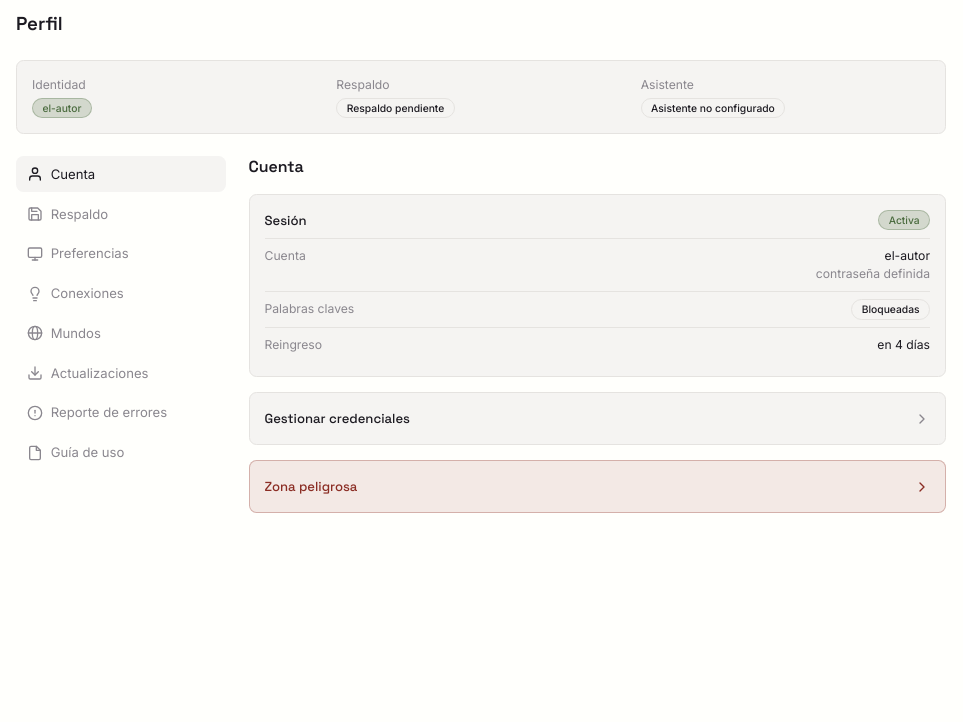
Scenario: ProfilePage account section (credentials mode) › shows one credentials form at a time through the segmented control
Click the button "Gestionar credenciales" at (337, 419), box [250,393,945,444]
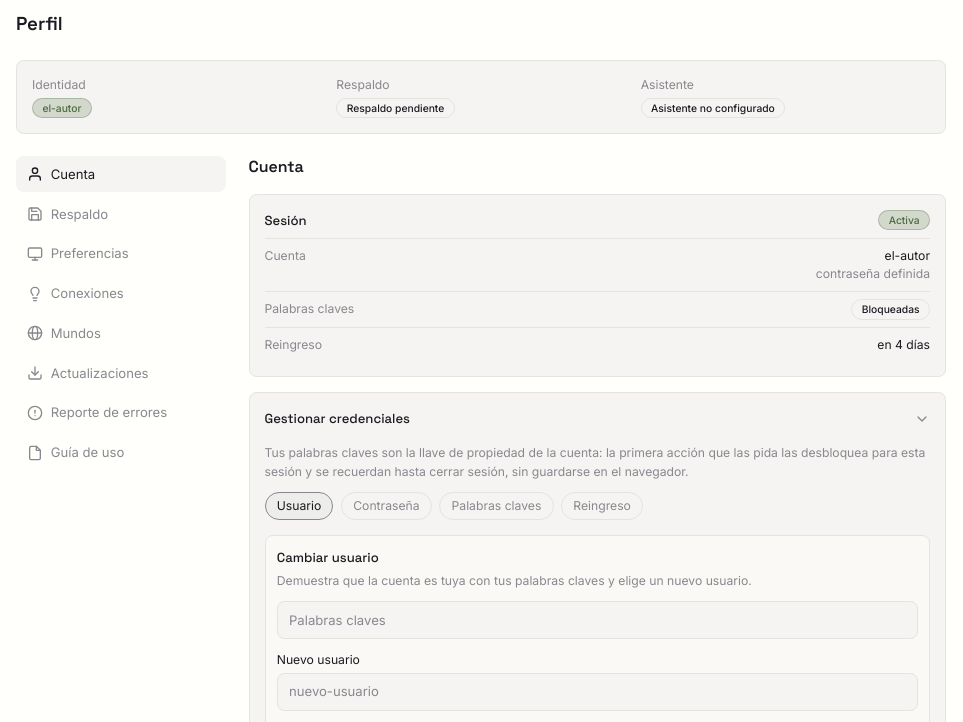
Expected: the heading "Cambiar contraseña" is not shown
Result: the heading "Cambiar usuario" is shown at [277,549,379,566]
Click the button "Contraseña" at (386, 506), box [341,492,432,520]
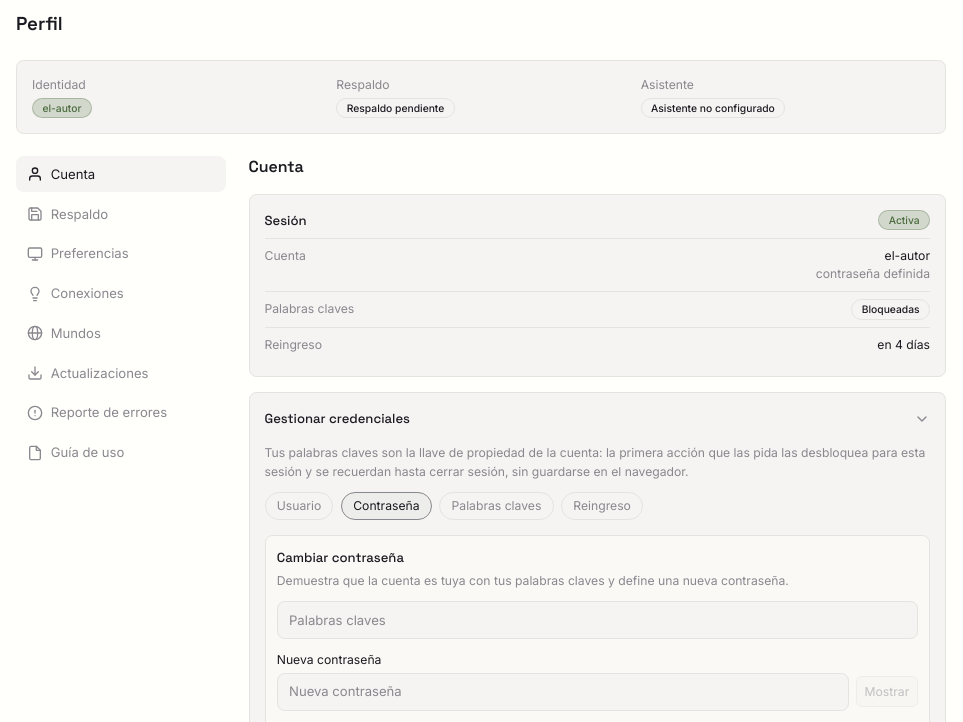
Result: the heading "Cambiar contraseña" is shown at [277,549,404,566]
Result: the heading "Cambiar usuario" is gone
Click the button "Palabras claves" at (496, 506), box [439,492,554,520]
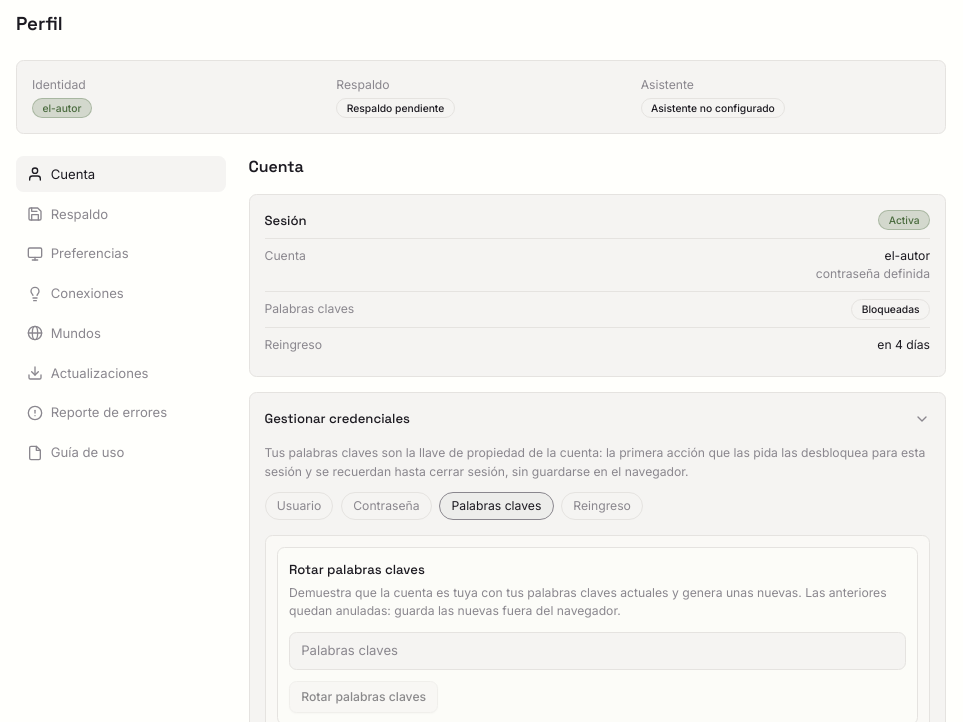
Result: the heading "Rotar palabras claves" is shown at [289,561,425,578]
Result: the heading "Cambiar contraseña" is gone
Click the button "Reingreso" at (602, 506), box [561,492,643,520]
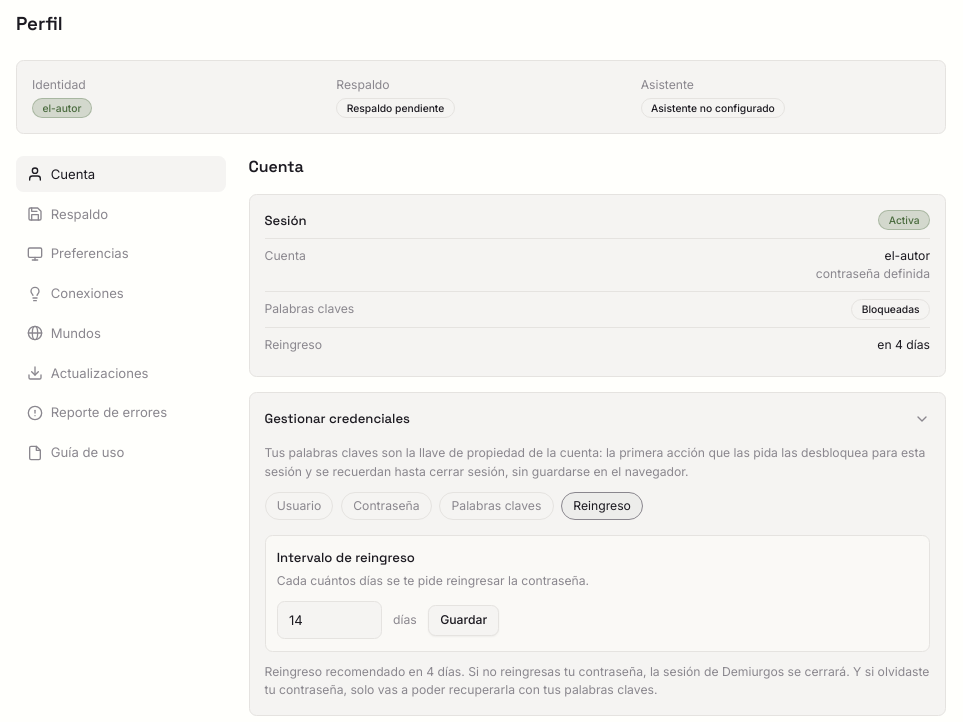
Result: the heading "Intervalo de reingreso" is shown at [277,549,415,566]
